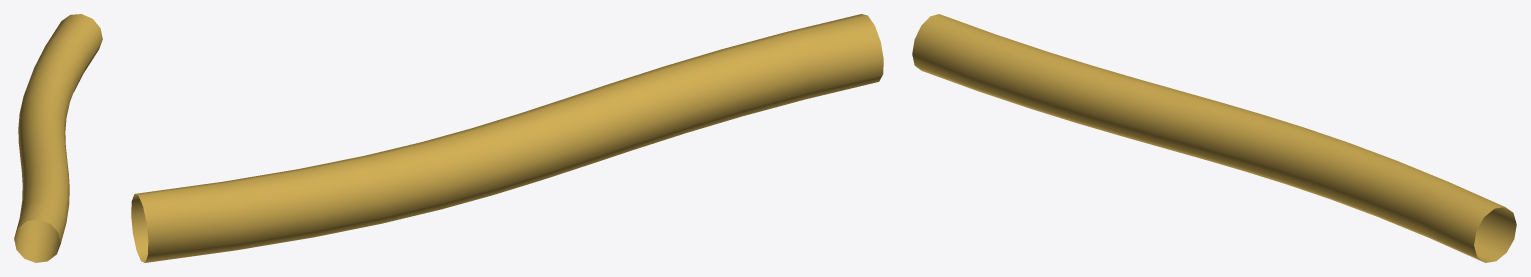
3 renders of one model, left to right at view 1: azimuth 30°, elevation 25°; view 2: azimuth 150°, elevation 25°; view 3: azimuth 270°, elevation 25°, orthographic. The views are drawn at different scales.
Visible parts, largest first — view 1: 左侧臂丛上干后股; view 2: 左侧臂丛上干后股; view 3: 左侧臂丛上干后股.
Part boxes in pixels (x1,y1,x2,y2): 左侧臂丛上干后股: (14,14,102,262); 左侧臂丛上干后股: (131,14,883,262); 左侧臂丛上干后股: (912,14,1516,262).
Size of the model in its own units: 0.0214 by 0.00448 by 0.0298.
